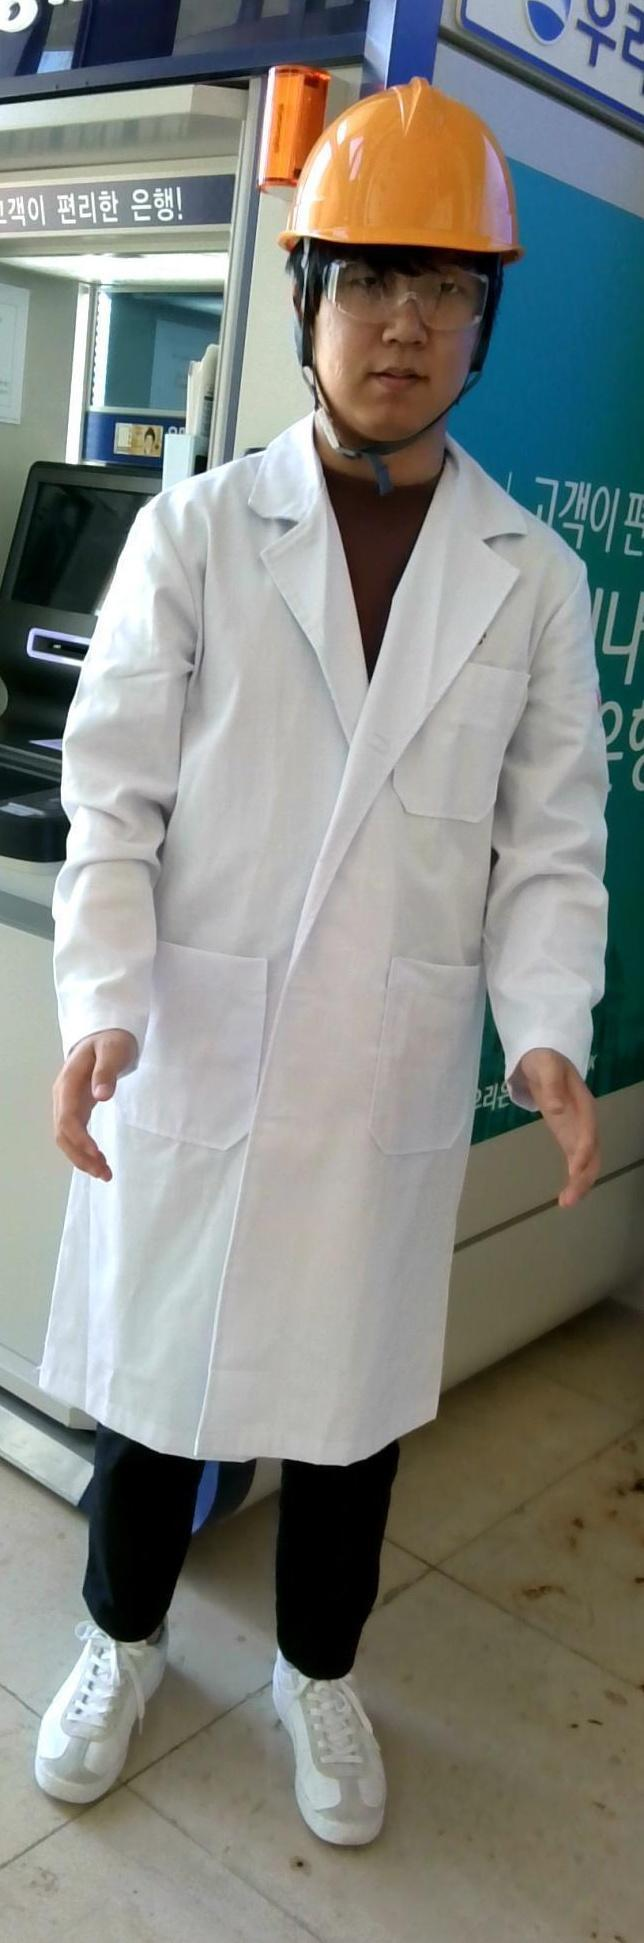lab_coat: (111, 534, 518, 1426)
